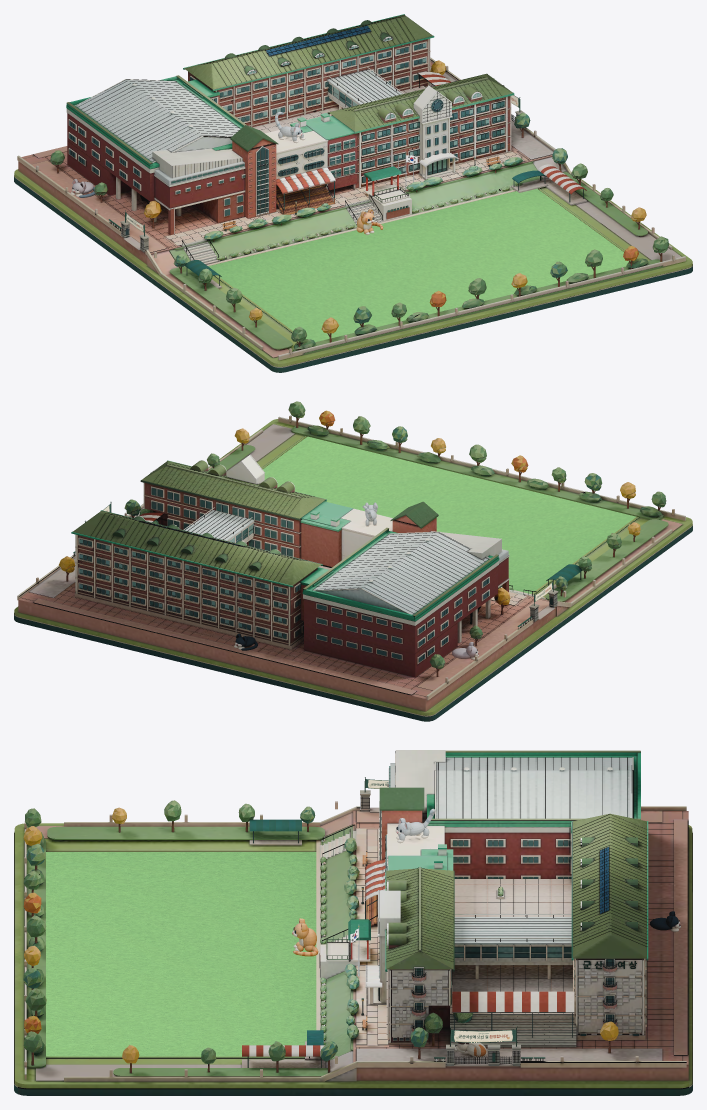
Rendered from campus.glb.
The picture shows the model from 3 angles, top to bottom: view 1: azimuth 30°, elevation 25°; view 2: azimuth 150°, elevation 25°; view 3: azimuth 270°, elevation 25°; orthographic projection. The views are drawn at different scales.
Parts seen in each view (by area): view 1: terrain, front, rear, nature, cats; view 2: terrain, rear, front, nature, cats; view 3: terrain, rear, front, nature, cats, banners.
Part boxes in pixels (x1=…): terrain: x1=14, y1=57, x2=692, y2=372; front: x1=108, y1=38, x2=586, y2=288; rear: x1=66, y1=14, x2=450, y2=211; nature: x1=50, y1=60, x2=668, y2=350; cats: x1=70, y1=112, x2=383, y2=234; terrain: x1=14, y1=415, x2=692, y2=721; rear: x1=71, y1=507, x2=499, y2=677; front: x1=73, y1=454, x2=582, y2=629; nature: x1=59, y1=401, x2=666, y2=676; cats: x1=234, y1=502, x2=478, y2=660; terrain: x1=14, y1=801, x2=692, y2=1095; rear: x1=421, y1=750, x2=648, y2=1047; front: x1=242, y1=750, x2=643, y2=1067; nature: x1=23, y1=800, x2=618, y2=1073; cats: x1=292, y1=808, x2=680, y2=1056; banners: x1=365, y1=779, x2=515, y2=1042.
Bounding box in the file's own units: 49.4 × 11.74 × 54.2.
Materials: 9 (8 with a texture image).
